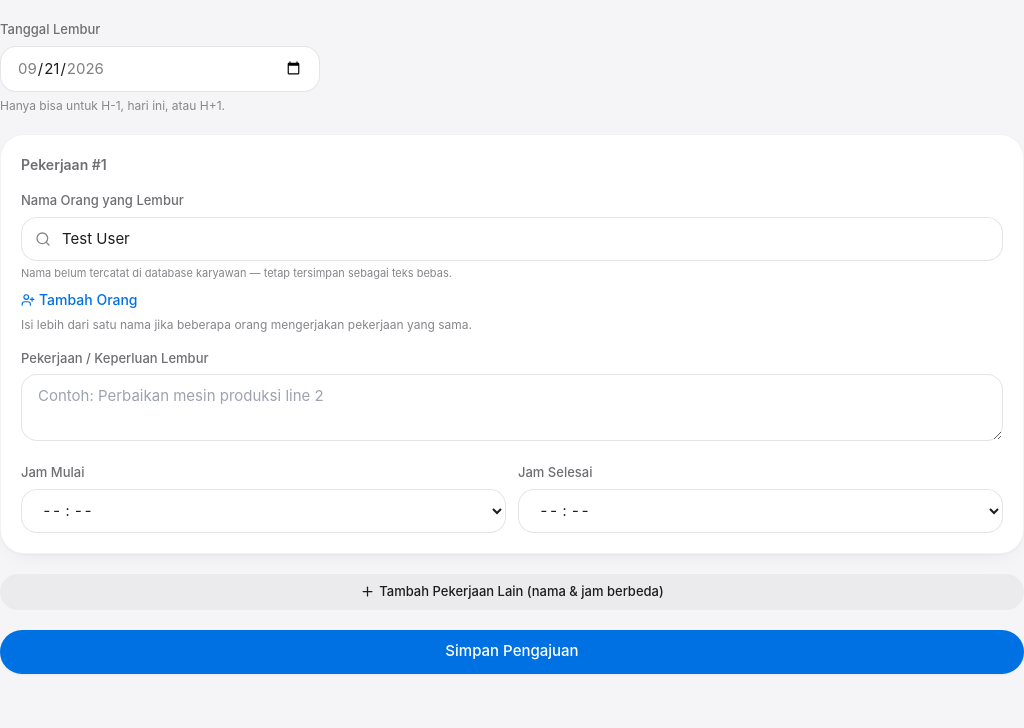
OvertimeForm › rejects a tanggal lembur outside the H-1/H+1 window
The image size is (1024, 728).
Step 1. Type "2026-09-30" into the date field labelled "Tanggal Lembur" → [160, 69], box [0, 46, 320, 92]
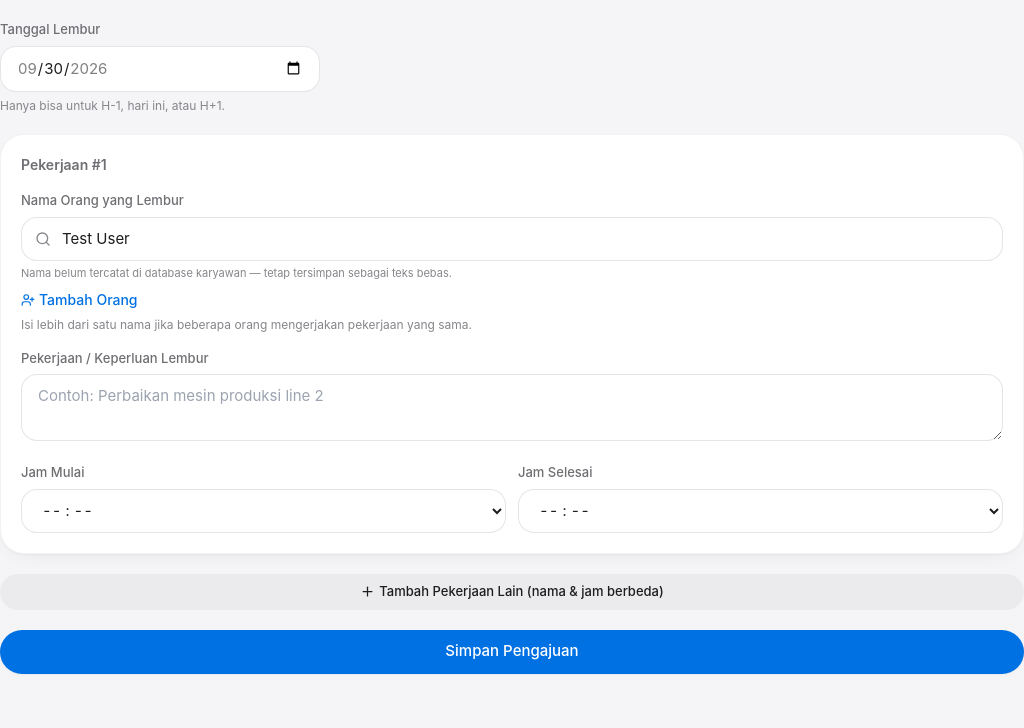
Step 2. Type "Lembur jauh hari" into the text box with placeholder "Contoh: Perbaikan mesin produksi line 2" → [512, 408], box [21, 374, 1003, 441]
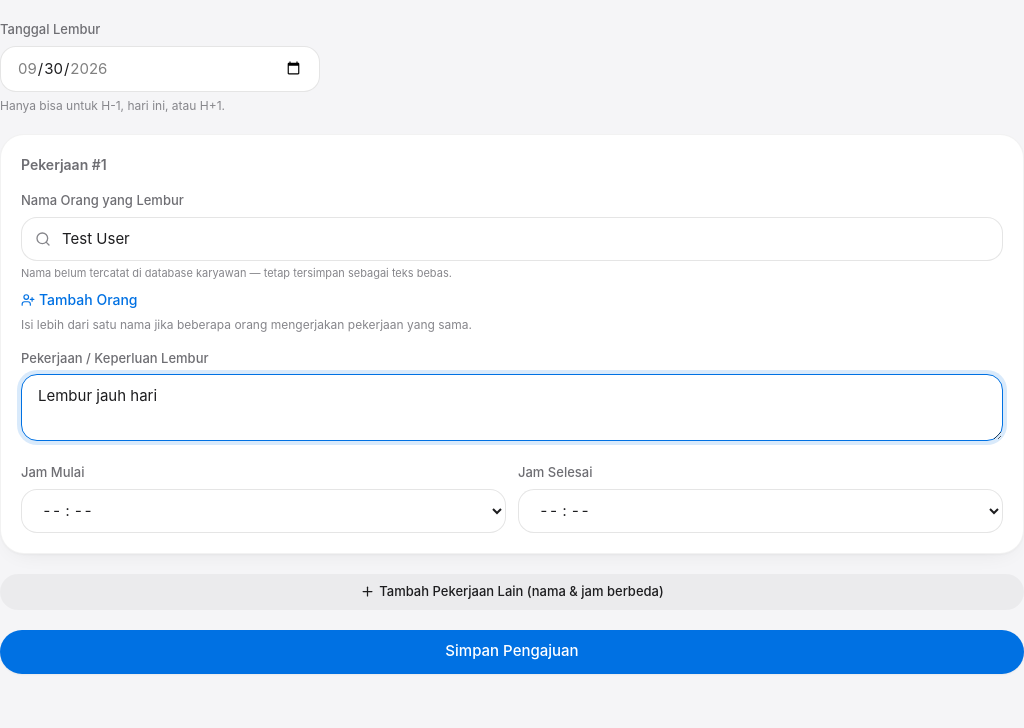
Step 3. Select "08:00" in the dropdown named "Jam" below "Jam Mulai" → [264, 510], box [21, 488, 506, 532]
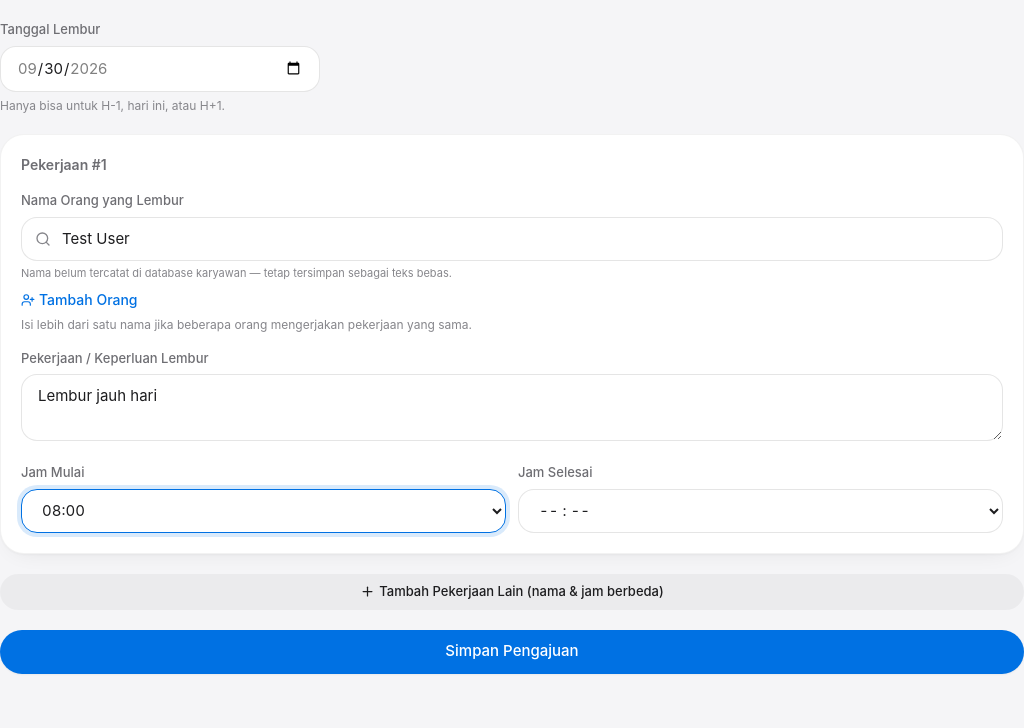
Step 4. Select "10:00" in the dropdown named "Jam" below "Jam Selesai" → [760, 510], box [518, 488, 1003, 532]
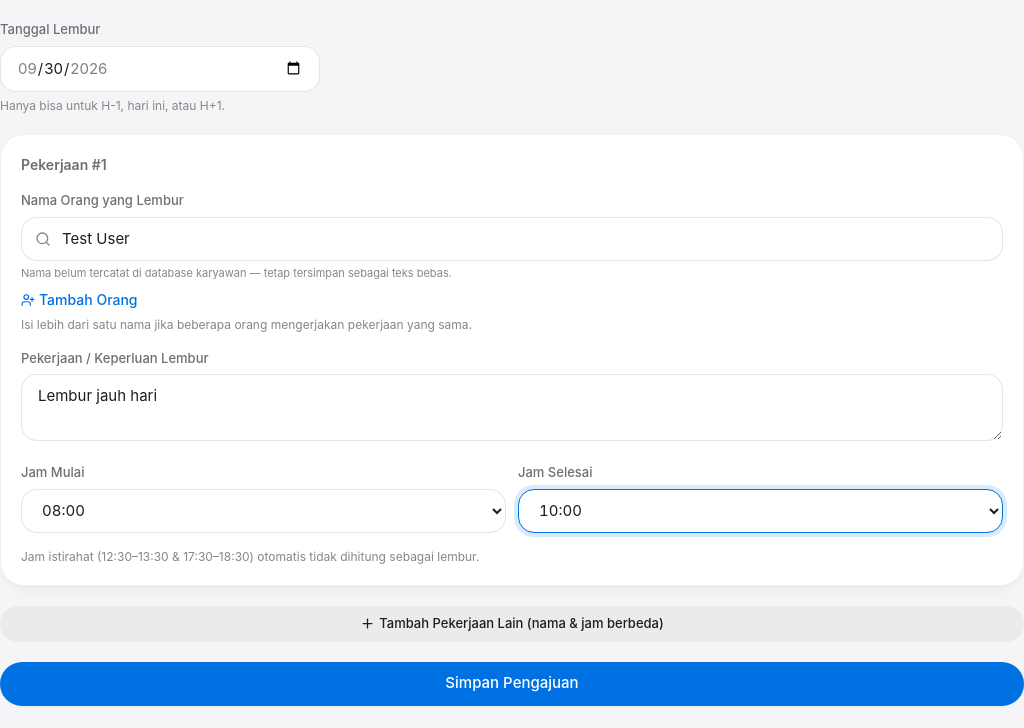
Step 5. Submit the form named "simpan pengajuan"
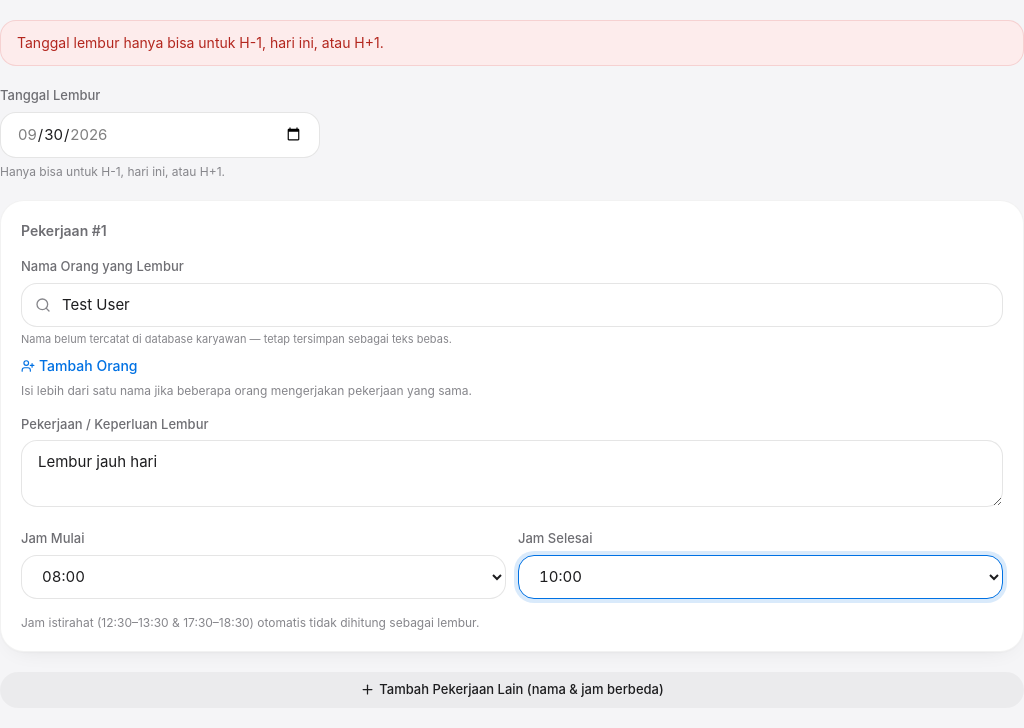
Check: the text "Tanggal lembur hanya bisa untuk H-1, hari ini, atau H+1." is shown, box [0, 20, 1023, 66]
